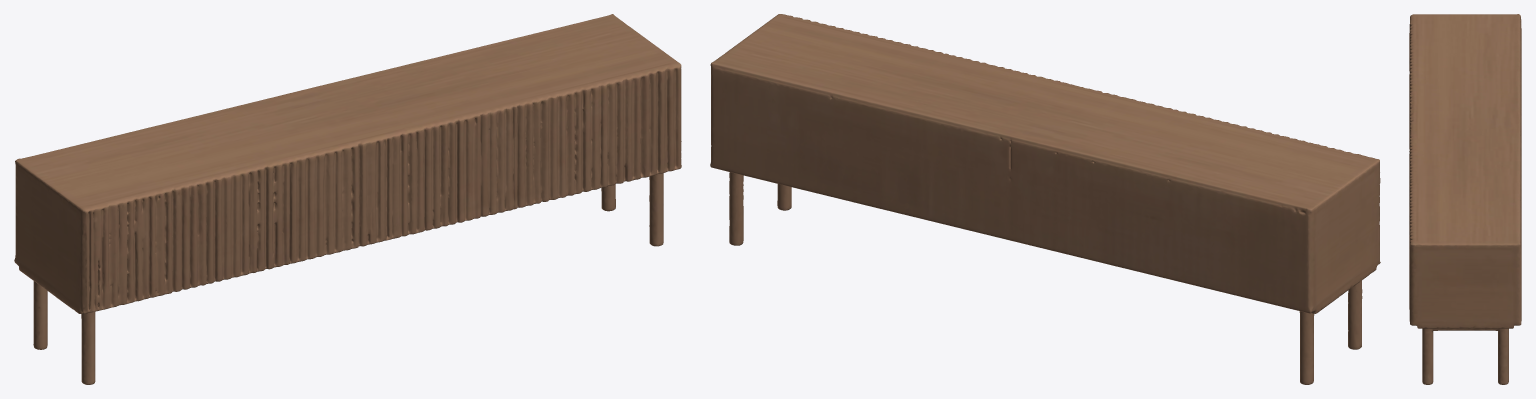
3 views of the same model, side by side, from view 1: azimuth 30°, elevation 25°; view 2: azimuth 150°, elevation 25°; view 3: azimuth 270°, elevation 25° (orthographic). The views are drawn at different scales.
Parts seen in each view (by area): view 1: world; view 2: world; view 3: world.
Boxes of the visible parts, x1,y1,x2,y2 form: world: (14,14,681,384); world: (710,14,1380,384); world: (1409,14,1521,384).
Bounding box in the file's own units: 1 × 0.2945 × 0.2066.
Materials: 1 (1 with a texture image).
